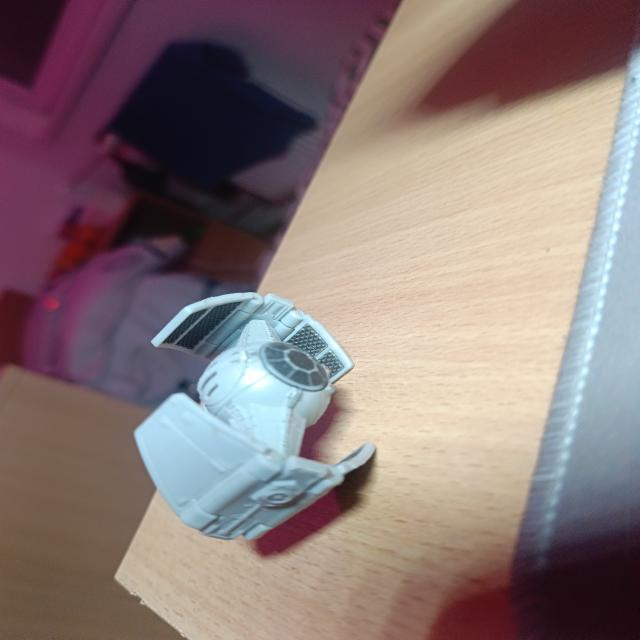tie fighter: (134, 293, 375, 540)
